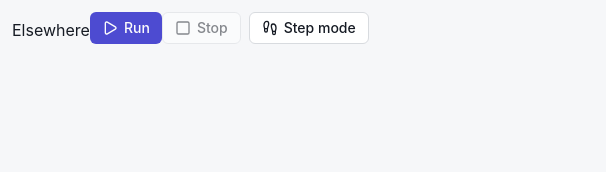
Scenario: RunControls in step mode › offers Next step and Continue while step mode is on
Expected: the button "Next step" is not shown
Click the button "Step mode".
click(309, 28)  # box x1=249 y1=12 x2=369 y2=44
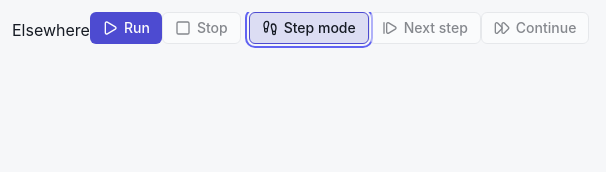
Result: the button "Step mode" is pressed
Click the button "Step mode".
click(309, 28)  # box x1=249 y1=12 x2=369 y2=44
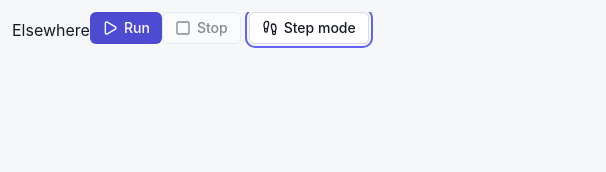
Result: the button "Next step" is gone
Result: the button "Continue" is gone
